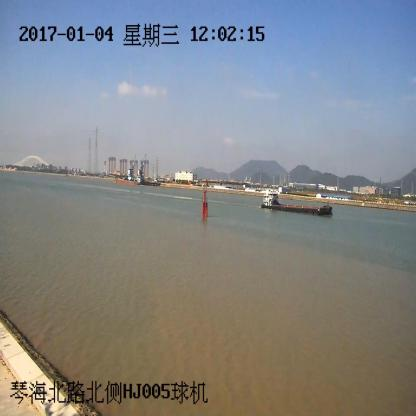Bulk Carrier: (262, 190, 332, 218)
